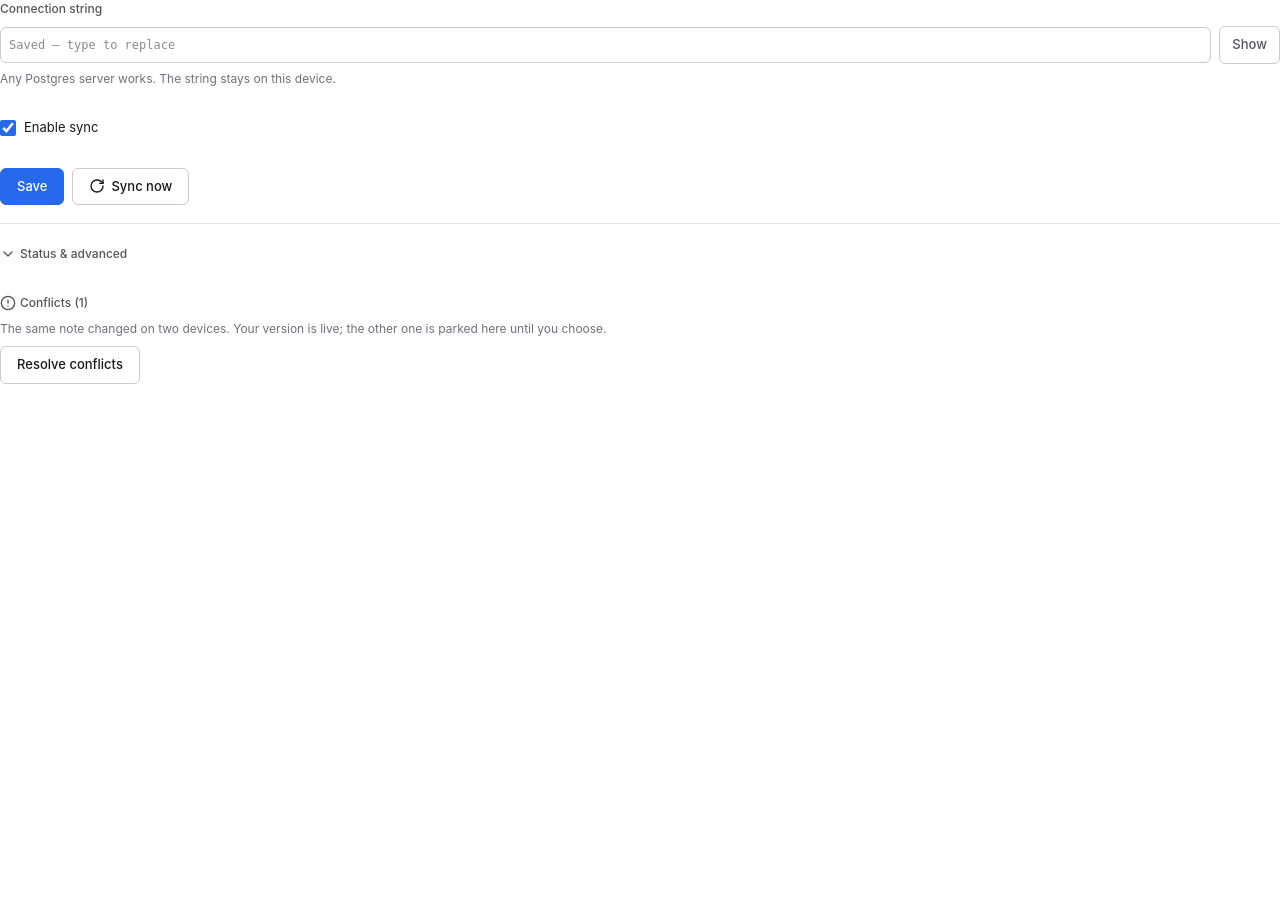
Test: SyncPane › opens the resolver in a scrollable pop-up that closes again
The image size is (1280, 900).
What coordinates should you click on to do the following:
click the button with test id "sync-resolve-open"
I would click on:
 (70, 365)
Its box is [0, 346, 140, 384].
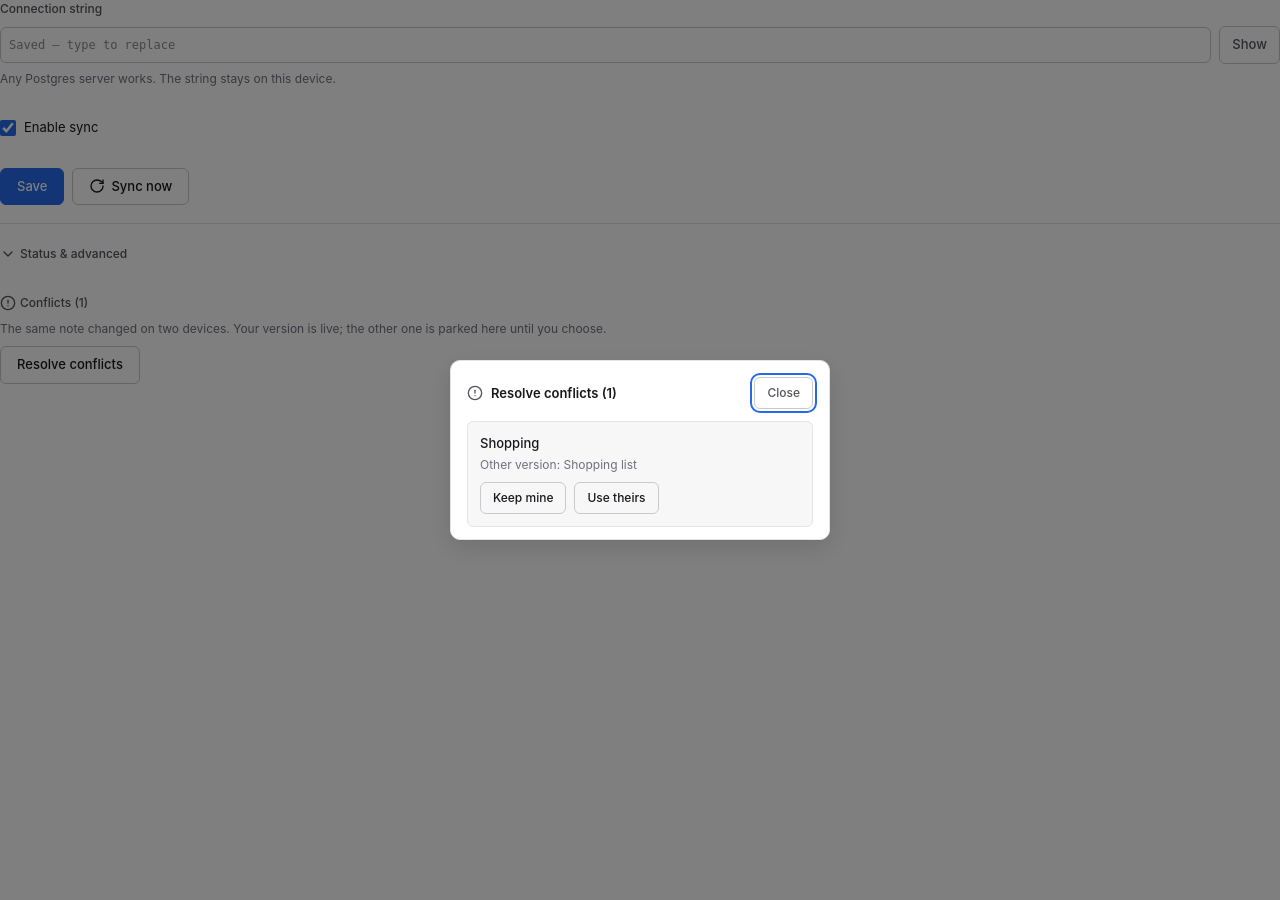
Now the dialog with test id "sync-conflicts-dialog" is shown, box [450, 360, 830, 540]
What coordinates should you click on to do the following:
click the button "Close"
I would click on:
 (784, 393)
Its box is [754, 377, 813, 409].
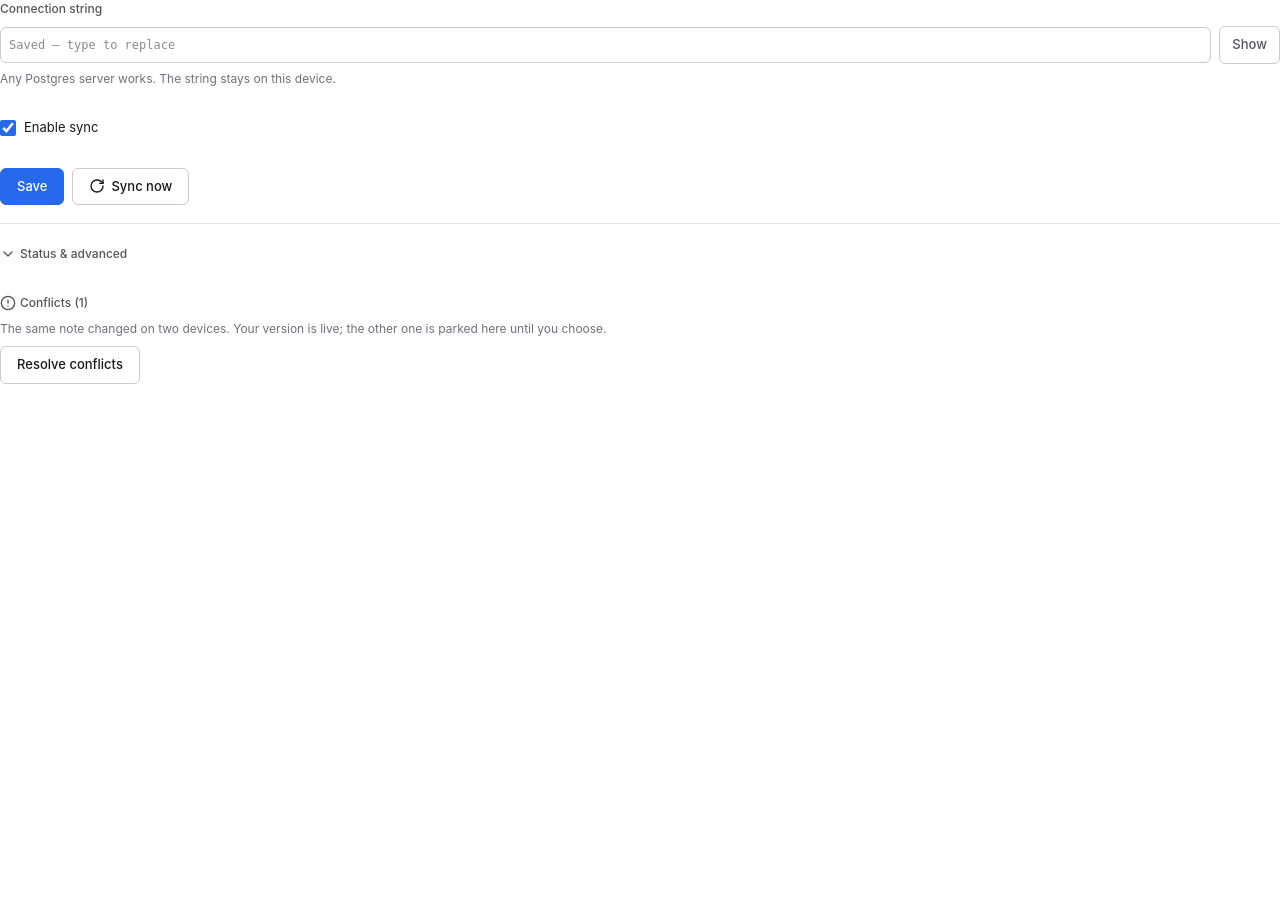
Now the dialog with test id "sync-conflicts-dialog" is gone
